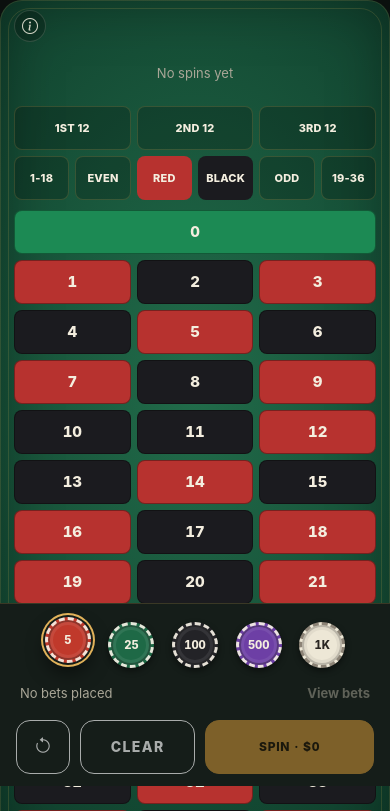
RouletteView › places a straight bet by selecting a chip and tapping a table cell
The image size is (390, 811).
Click the button "25".
click(131, 646)  # box [108,622,154,668]
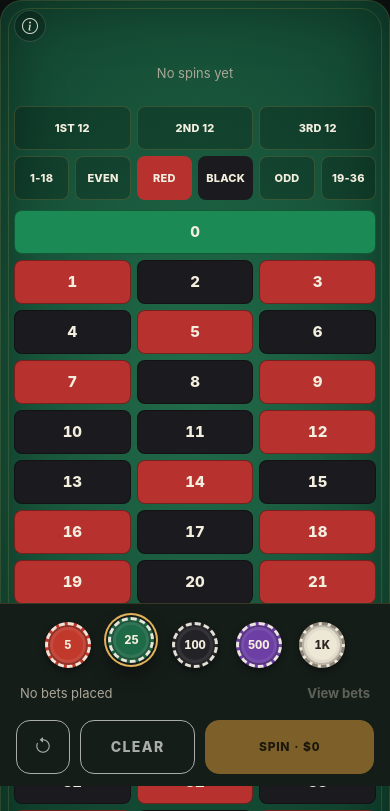
Click the button "17".
click(195, 532)  # box [137,510,253,554]
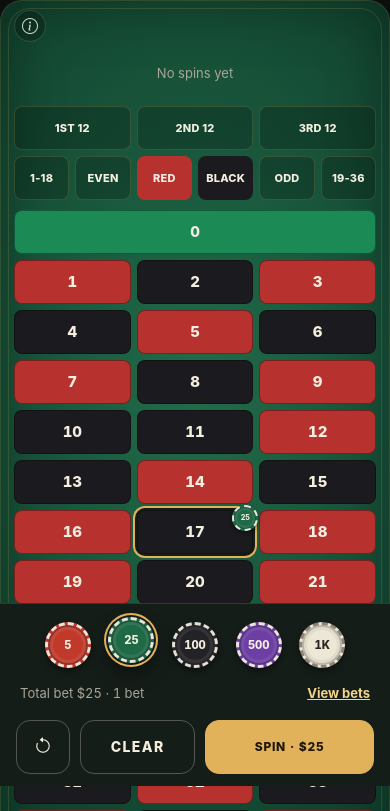
Expected: the button with class "cta-btn--spin" shows "$25", [205,720,374,774]
